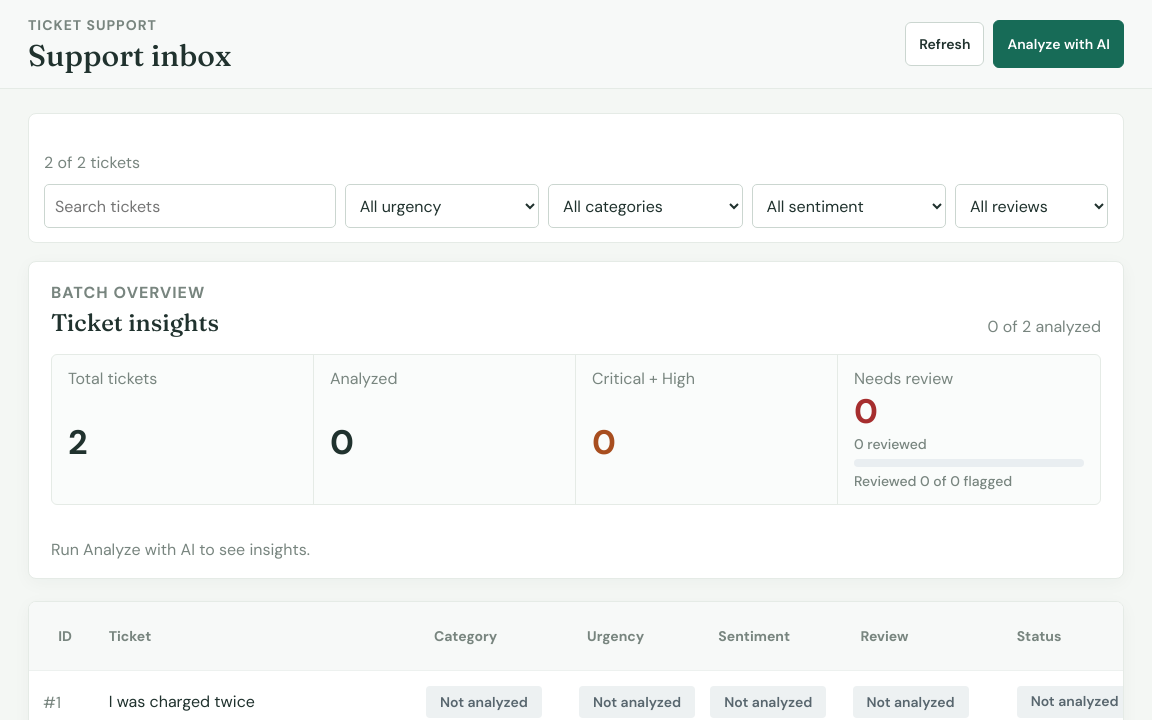
Scenario: App › filters by search text
Expected: the text "I was charged twice" is shown, [109, 691, 255, 712]
Type "crashing" into the search field labelled "Search tickets" at x=190, y=206, box [44, 184, 336, 228]
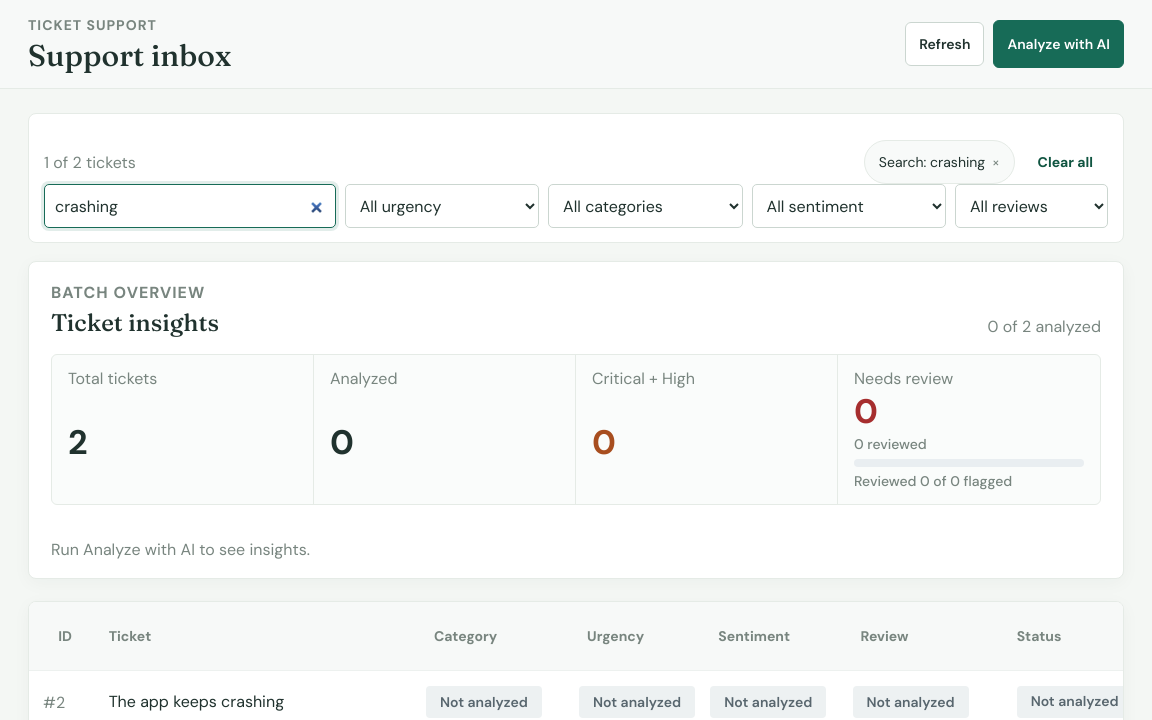
Expected: the text "The app keeps crashing" is shown, [109, 691, 284, 712]
Result: the text "I was charged twice" is gone
Replace the text in the search field named "Search tickets" with "zzz" at x=190, y=206, box [44, 184, 336, 228]
(page scrolled)
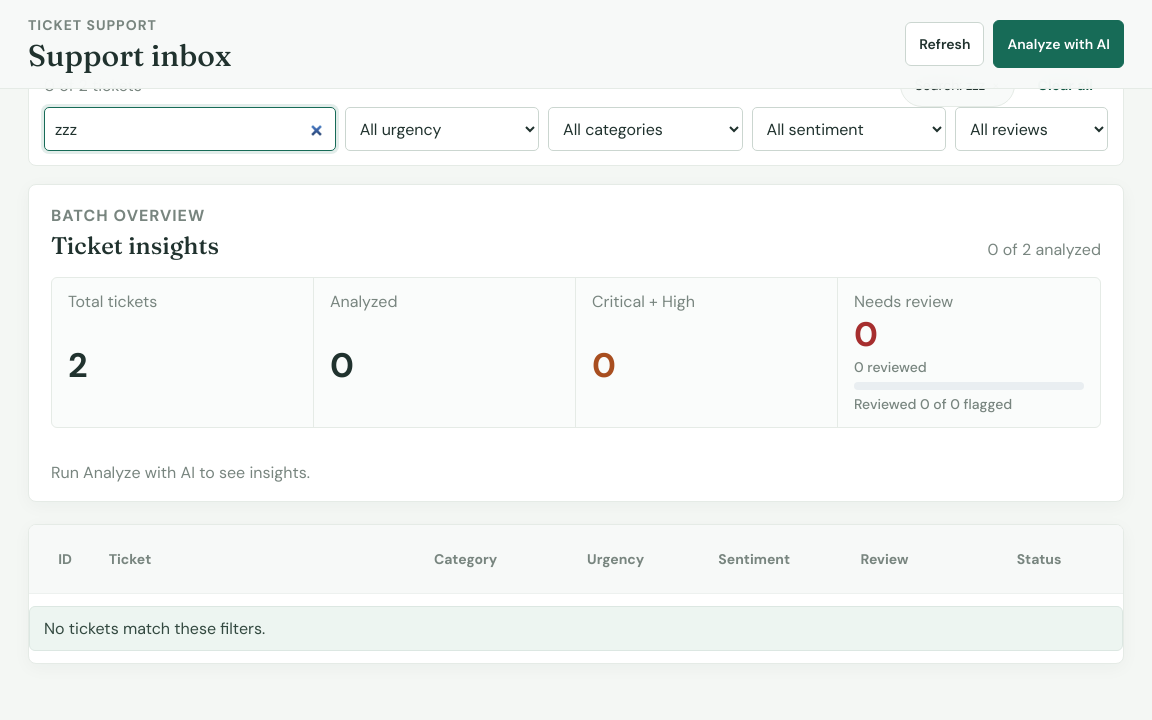
Result: the text "No tickets match these filters." is shown at [29, 606, 1123, 650]
